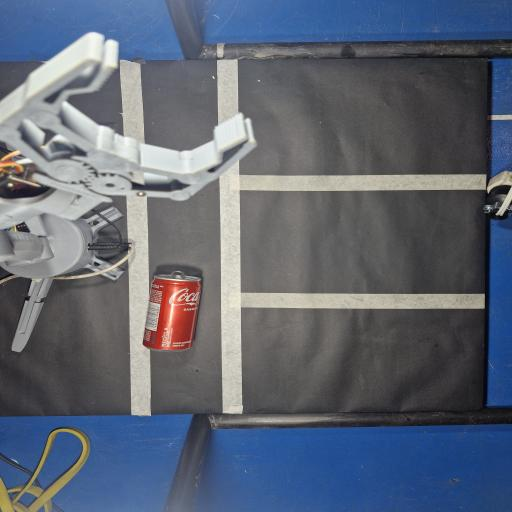lata: (143, 272, 201, 352)
